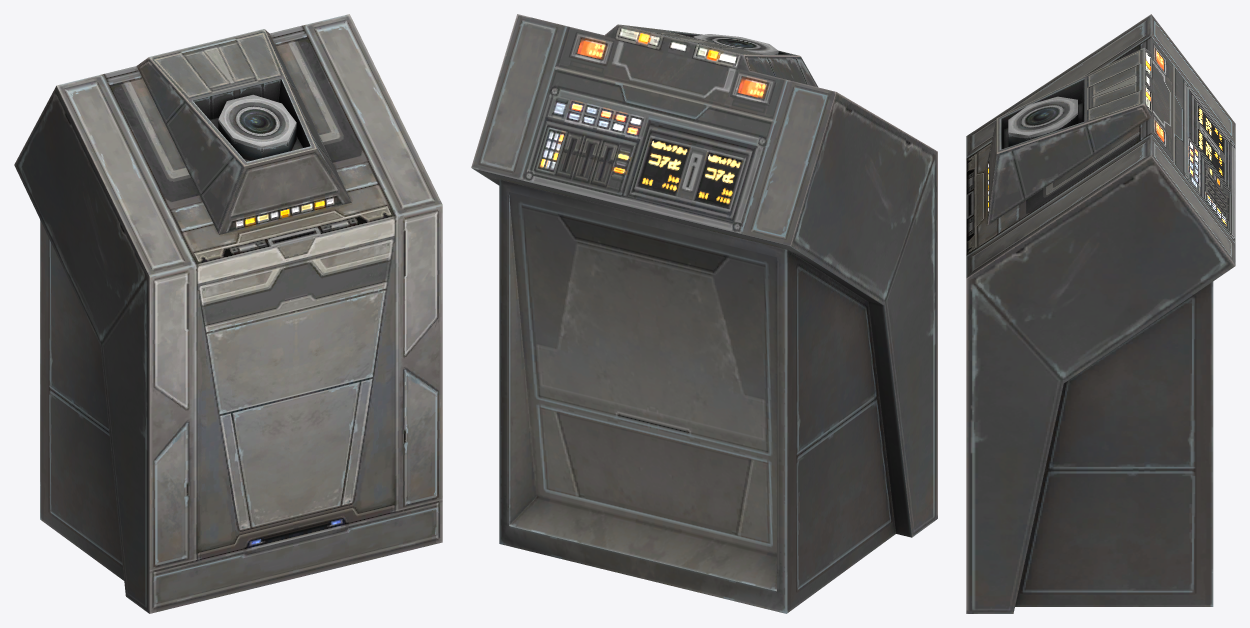
The model's file is all_item_tech_podium.glb.
3 views of the same model, side by side, from view 1: azimuth 30°, elevation 25°; view 2: azimuth 150°, elevation 25°; view 3: azimuth 270°, elevation 25° (orthographic). The views are drawn at different scales.
Parts seen in each view (by area): view 1: all_item_tech_podium; view 2: all_item_tech_podium; view 3: all_item_tech_podium.
Part boxes in pixels (left/top/right/bottom): all_item_tech_podium: left=14, top=14, right=442, bottom=613; all_item_tech_podium: left=471, top=14, right=937, bottom=613; all_item_tech_podium: left=966, top=14, right=1235, bottom=613.
Bounding box in the file's own units: 0.1 × 0.1531 × 0.08.
1 material, 1 textured.
